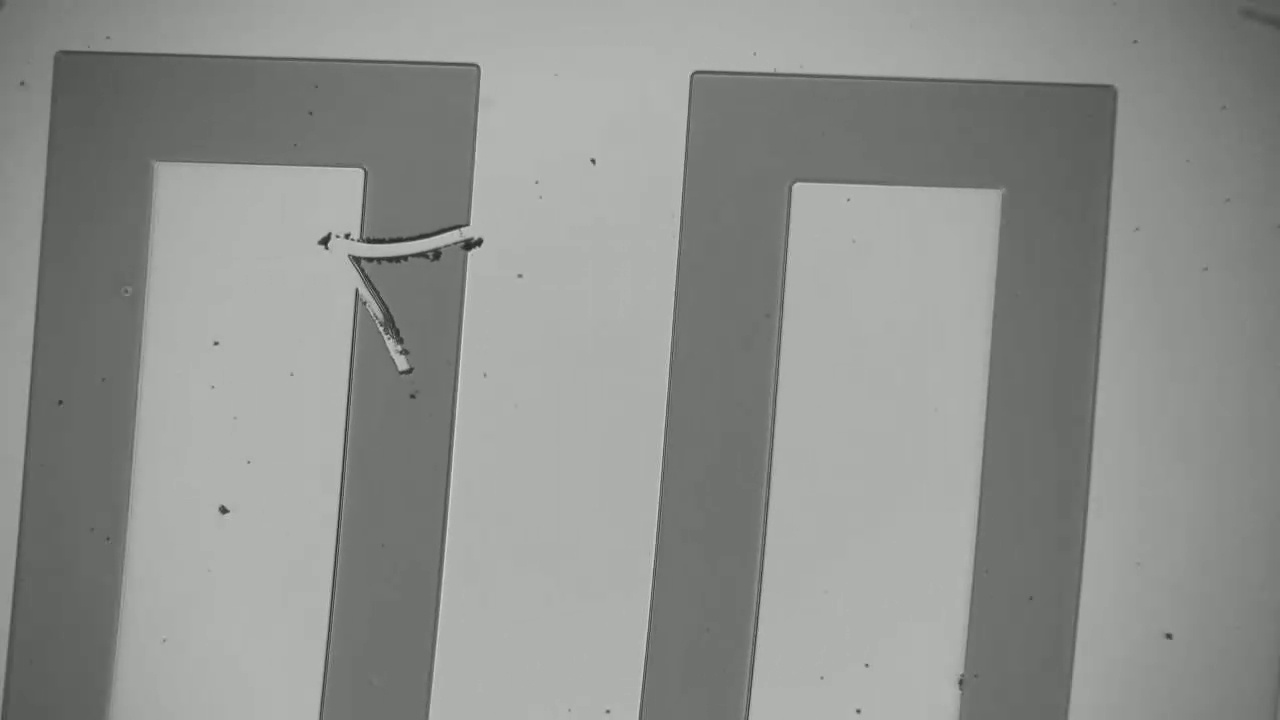Short_circuit: (329, 208, 497, 295)
